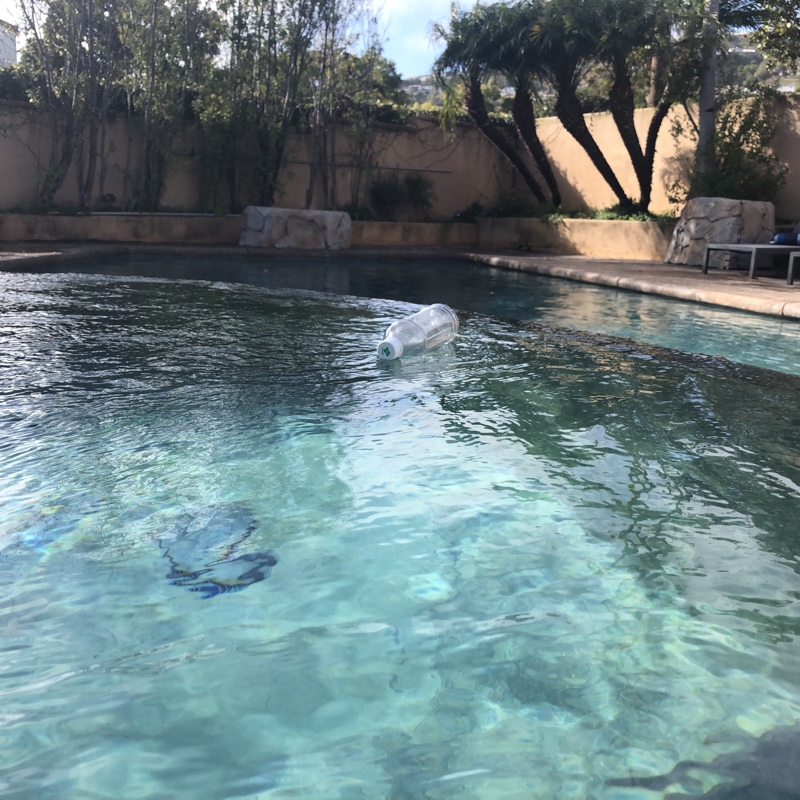Plastic Bottle: (374, 300, 464, 366)
